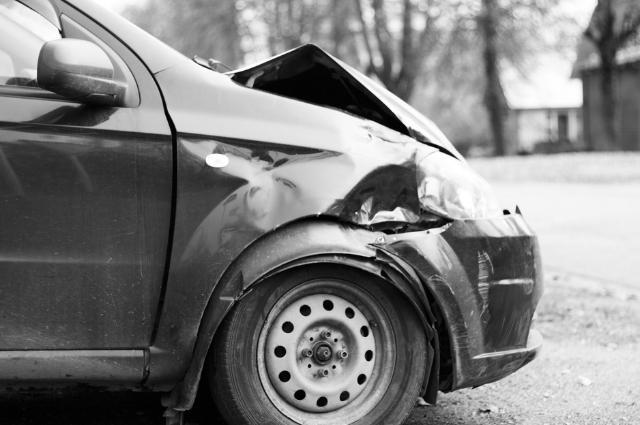Bonnet: (261, 42, 476, 141)
Bumper: (411, 225, 573, 377)
Fender: (201, 95, 420, 246)
